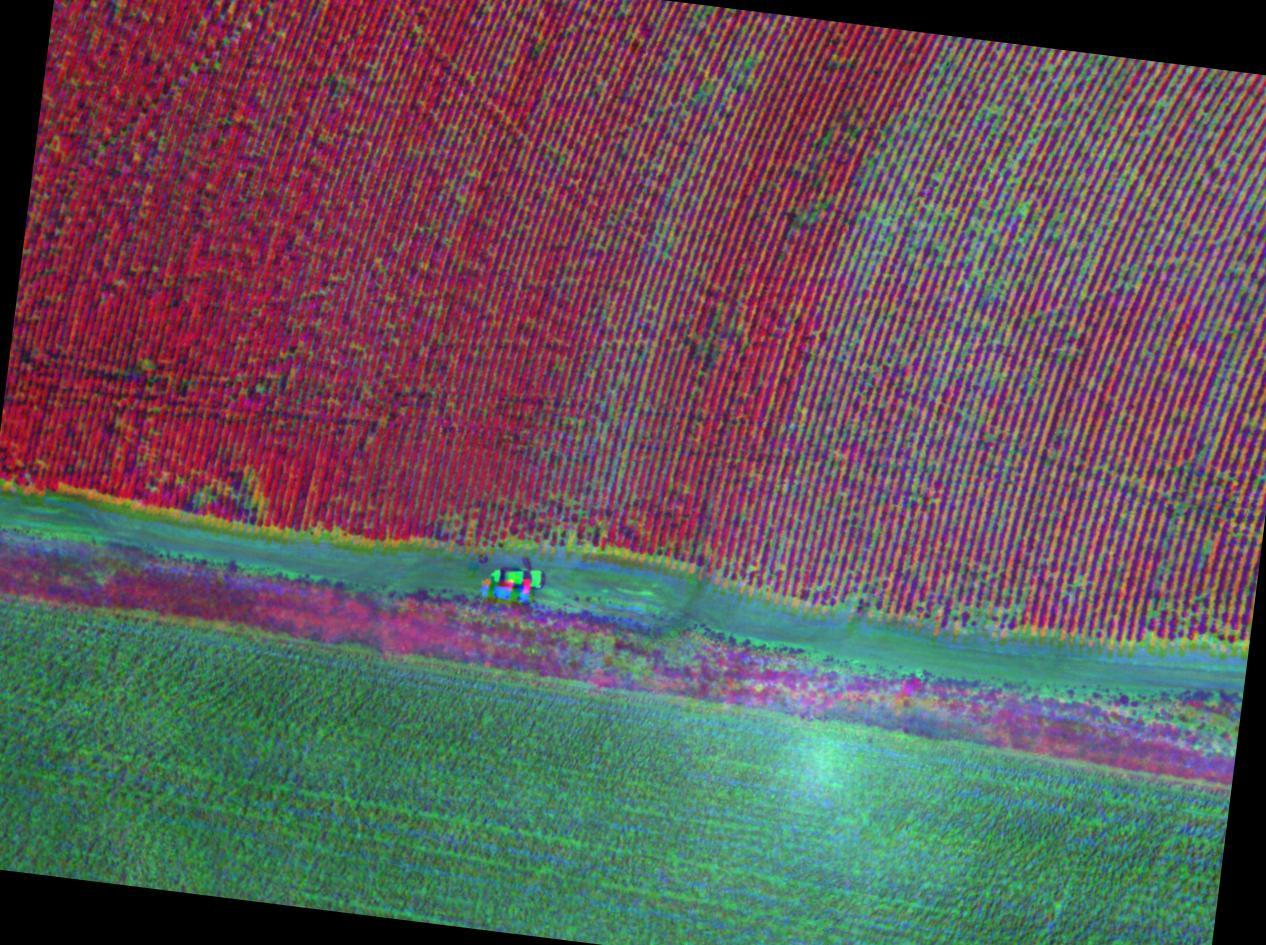dc: (988, 198, 1108, 325), (856, 238, 974, 354), (878, 128, 975, 240), (983, 75, 1068, 190), (1121, 133, 1201, 236)
